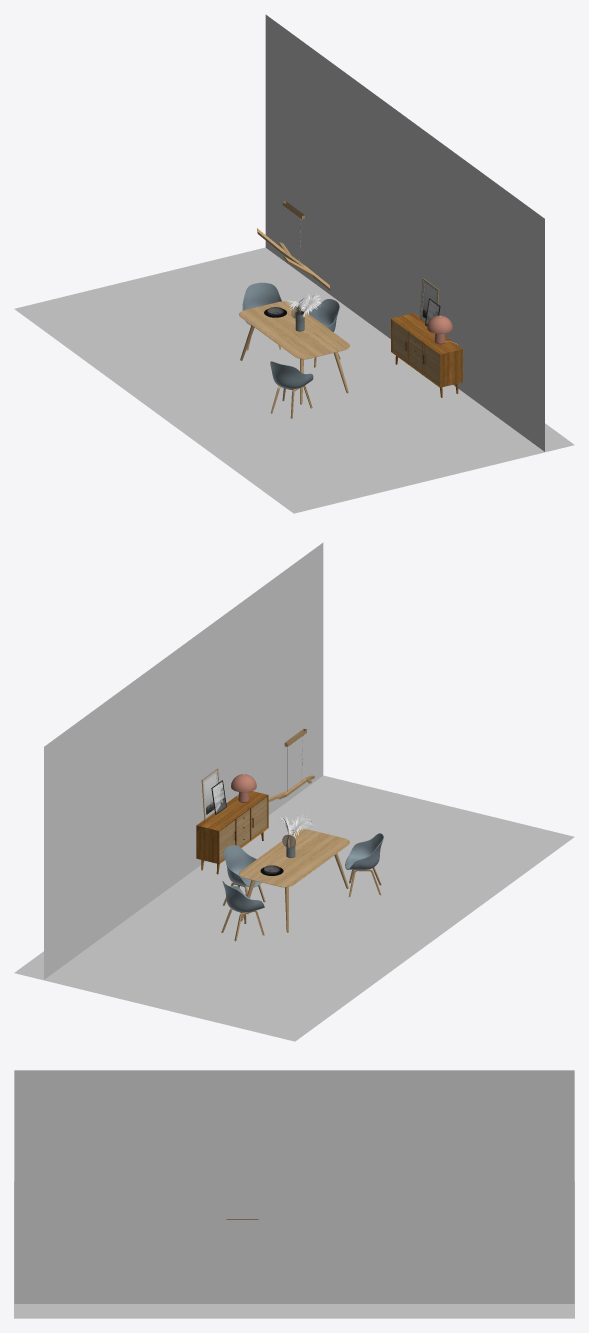
The model's file is [Free]_Dining_Set_Scandinavian_Style.fbx.
3 views of the same model, one above another, from view 1: azimuth 30°, elevation 25°; view 2: azimuth 150°, elevation 25°; view 3: azimuth 270°, elevation 25° (orthographic).
Parts seen in each view (by area): view 1: FLOOR, WALL, TABLE, SIDE_BOARD, AAC_CHAIR_02, AAC_CHAIR, LIGHT_PENDANT, AAC_CHAIR_01; view 2: FLOOR, WALL, TABLE, SIDE_BOARD, AAC_CHAIR_02, AAC_CHAIR_01, AAC_CHAIR; view 3: WALL, FLOOR.
Part boxes in pixels (left/top/right/bottom): FLOOR: left=14, top=247, right=574, bottom=513; WALL: left=265, top=14, right=544, bottom=451; TABLE: left=239, top=301, right=349, bottom=404; SIDE_BOARD: left=391, top=313, right=462, bottom=397; AAC_CHAIR_02: left=270, top=361, right=313, bottom=418; AAC_CHAIR: left=242, top=282, right=281, bottom=350; LIGHT_PENDANT: left=257, top=201, right=330, bottom=290; AAC_CHAIR_01: left=307, top=299, right=340, bottom=367; FLOOR: left=14, top=775, right=574, bottom=1041; WALL: left=44, top=542, right=323, bottom=979; TABLE: left=239, top=829, right=349, bottom=932; SIDE_BOARD: left=196, top=791, right=268, bottom=874; AAC_CHAIR_02: left=345, top=833, right=383, bottom=897; AAC_CHAIR_01: left=222, top=845, right=265, bottom=914; AAC_CHAIR: left=221, top=881, right=264, bottom=941; WALL: left=14, top=1070, right=574, bottom=1303; FLOOR: left=14, top=1181, right=574, bottom=1318.
Bounding box in the file's own units: 470 × 373 × 810.
